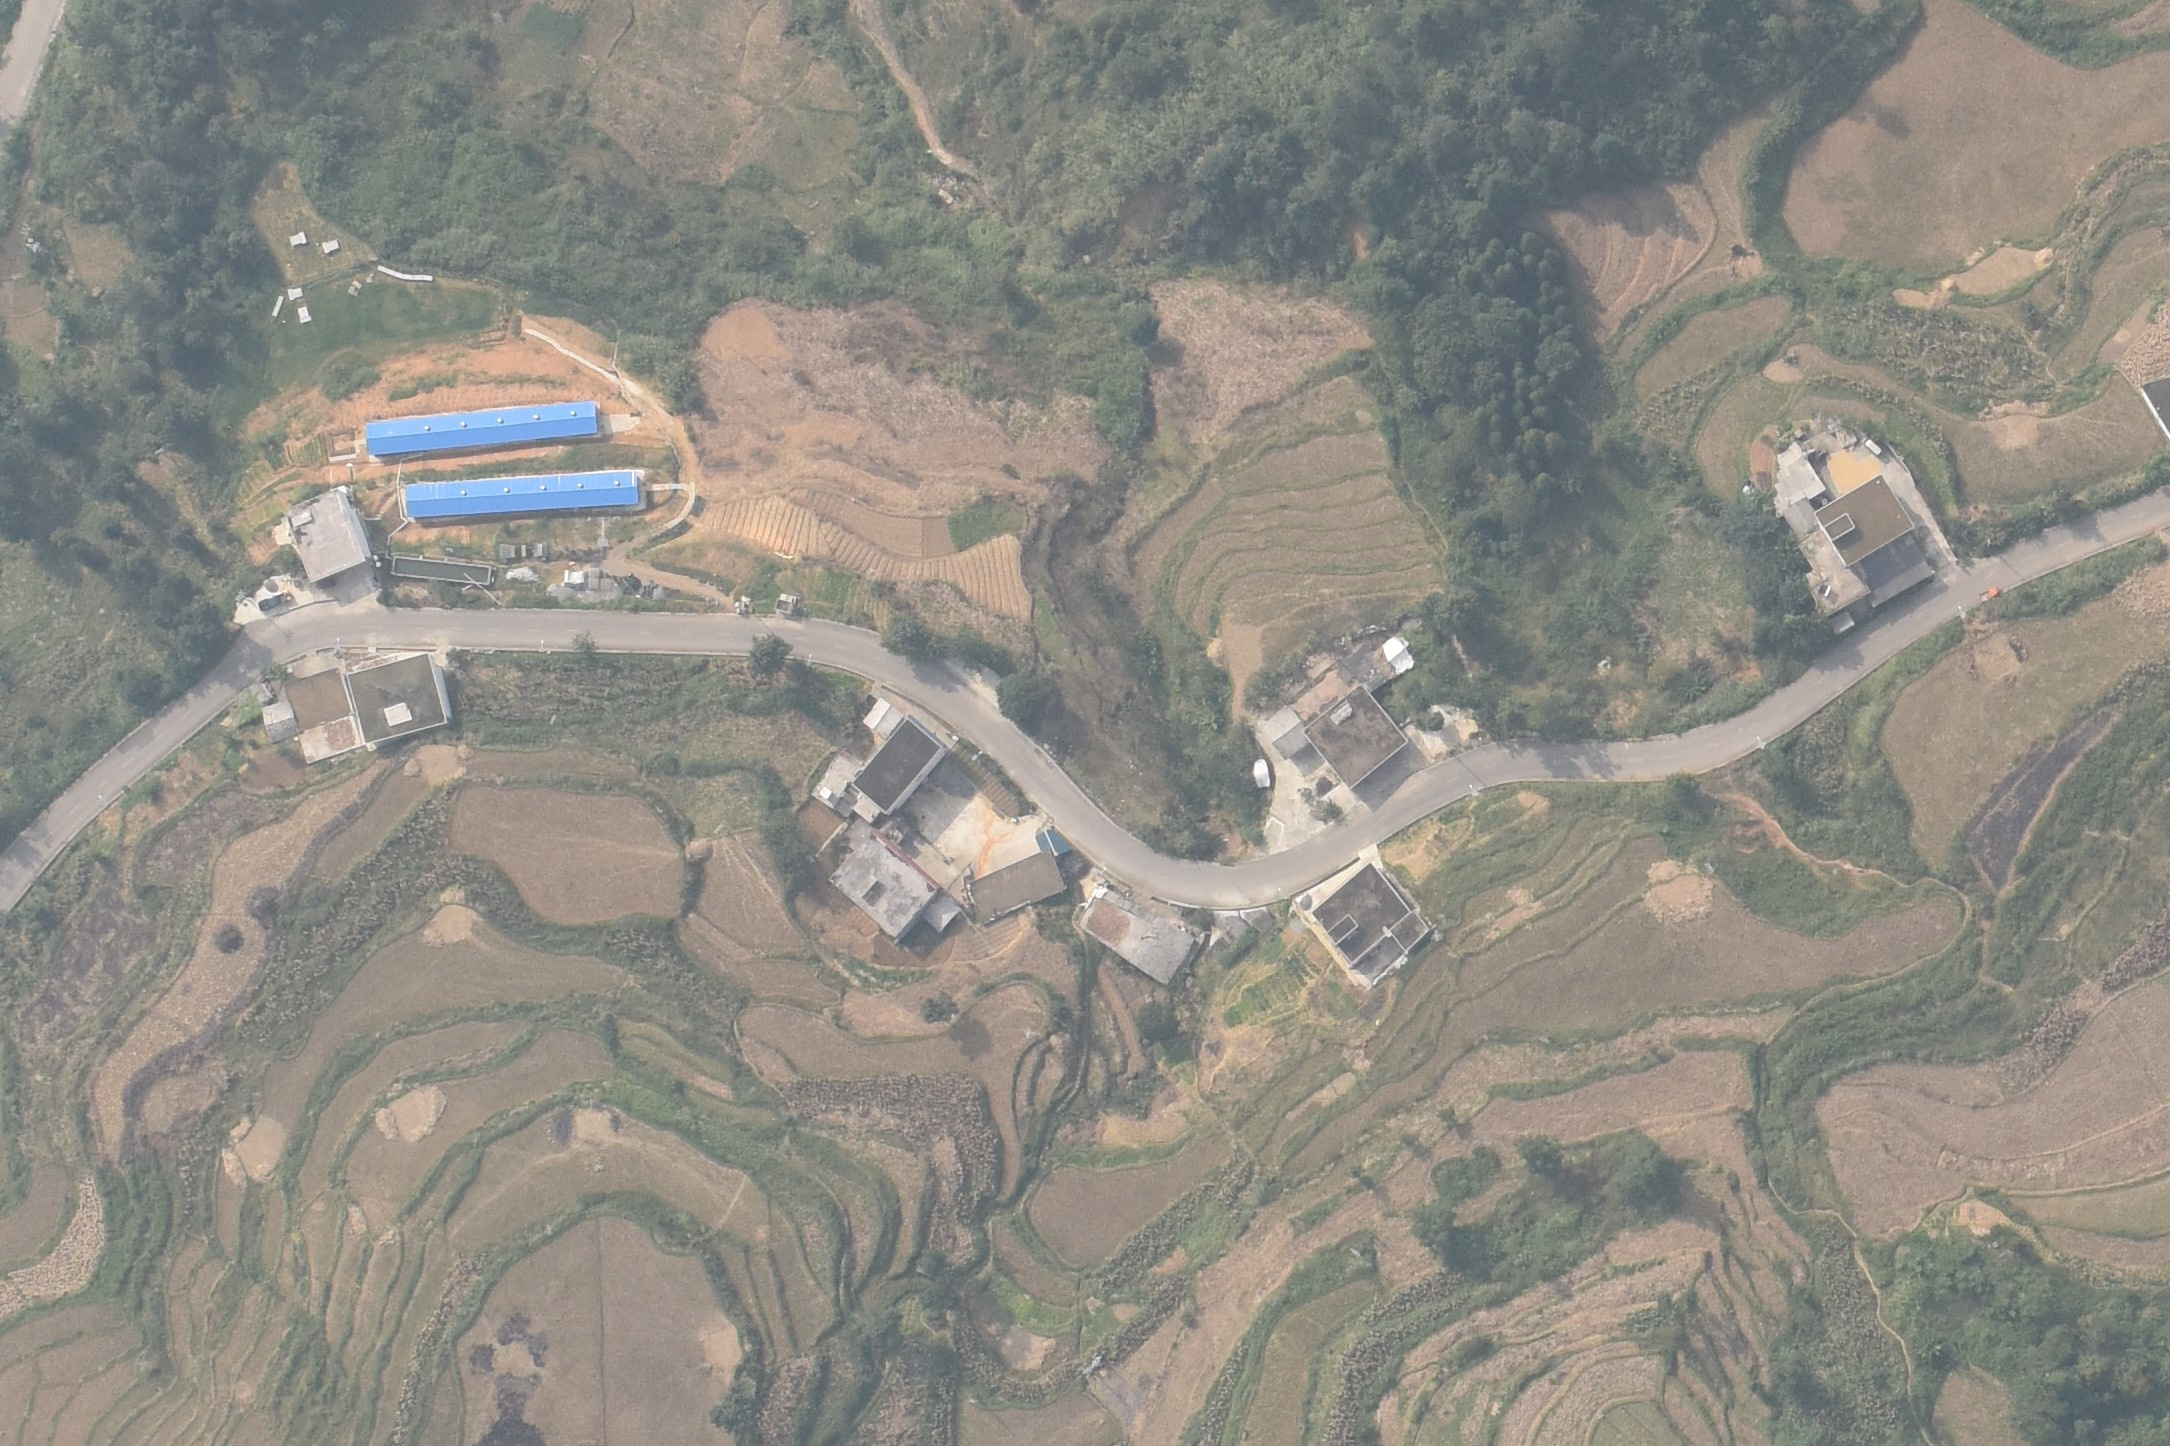building: (1310, 861, 1430, 988), (828, 828, 942, 939), (1075, 884, 1196, 987), (1301, 684, 1409, 790), (1814, 471, 1915, 571), (346, 652, 447, 743), (851, 718, 944, 816), (285, 484, 371, 583), (966, 851, 1068, 926), (1271, 720, 1311, 761), (262, 699, 297, 742)
prefabricated-house: (365, 400, 598, 455), (405, 470, 641, 517), (862, 698, 904, 739)
vehicle: (1860, 435, 1882, 456), (1979, 587, 1999, 599)
